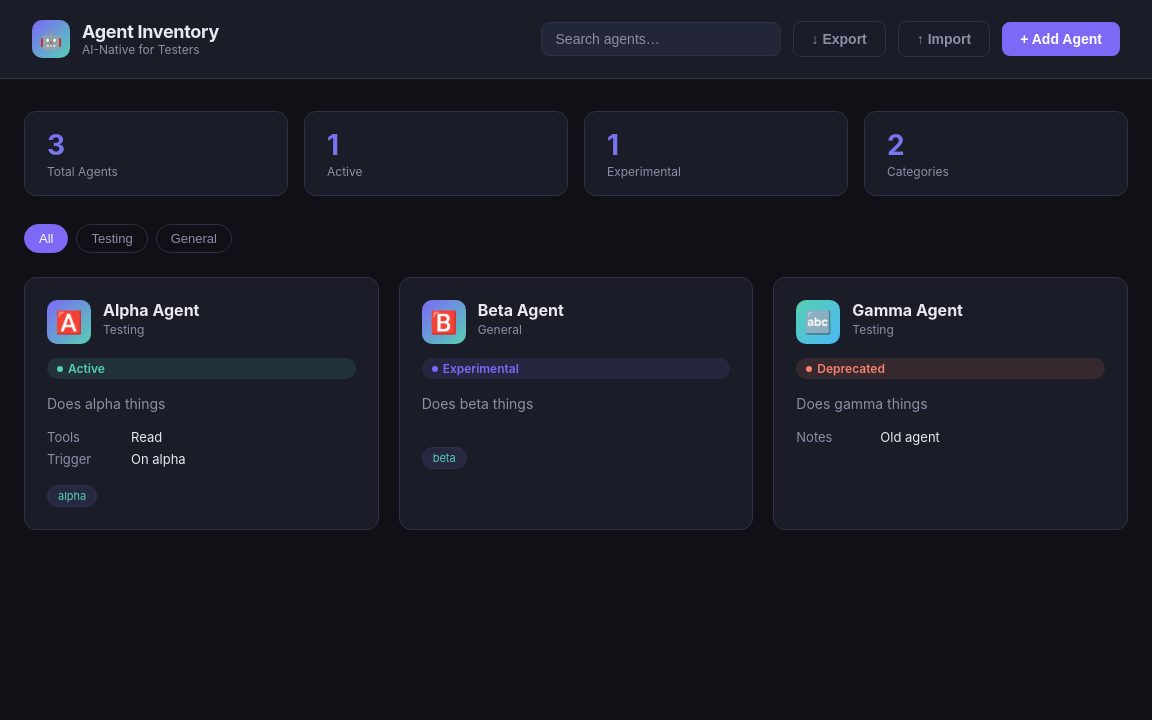
Stats bar › updates stats after adding an agent
Step 1. Click the button "+ Add Agent" → click(1061, 39), box [1002,22,1120,56]
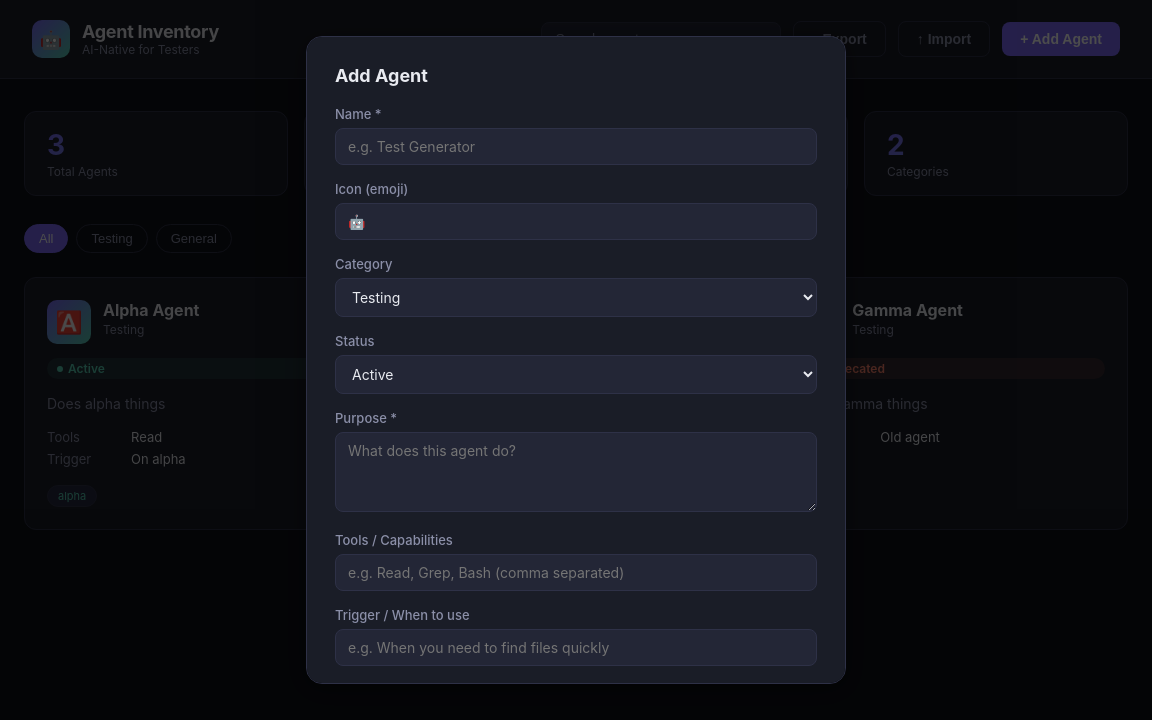
Step 2. Type "New One" into the field with placeholder "e.g. Test Generator" → (576, 146), box [335,128,817,165]
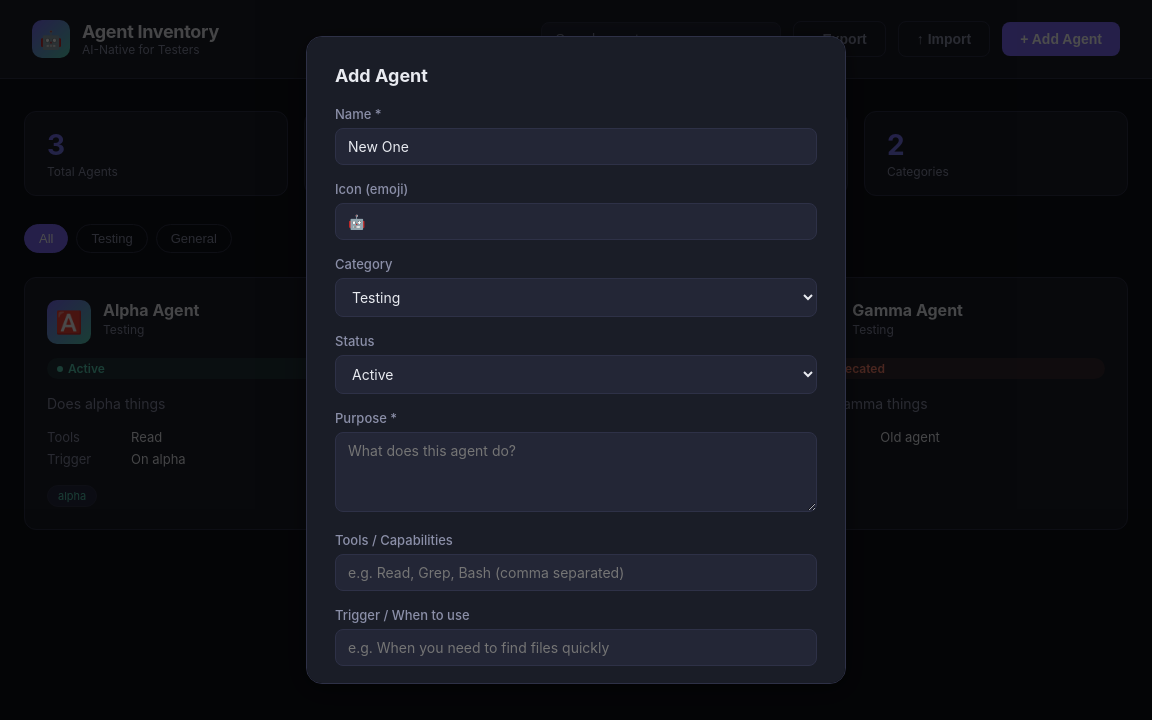
Step 3. Type "New purpose" into the text box with placeholder "What does this agent do?" → (576, 472), box [335,432,817,512]
(page scrolled)
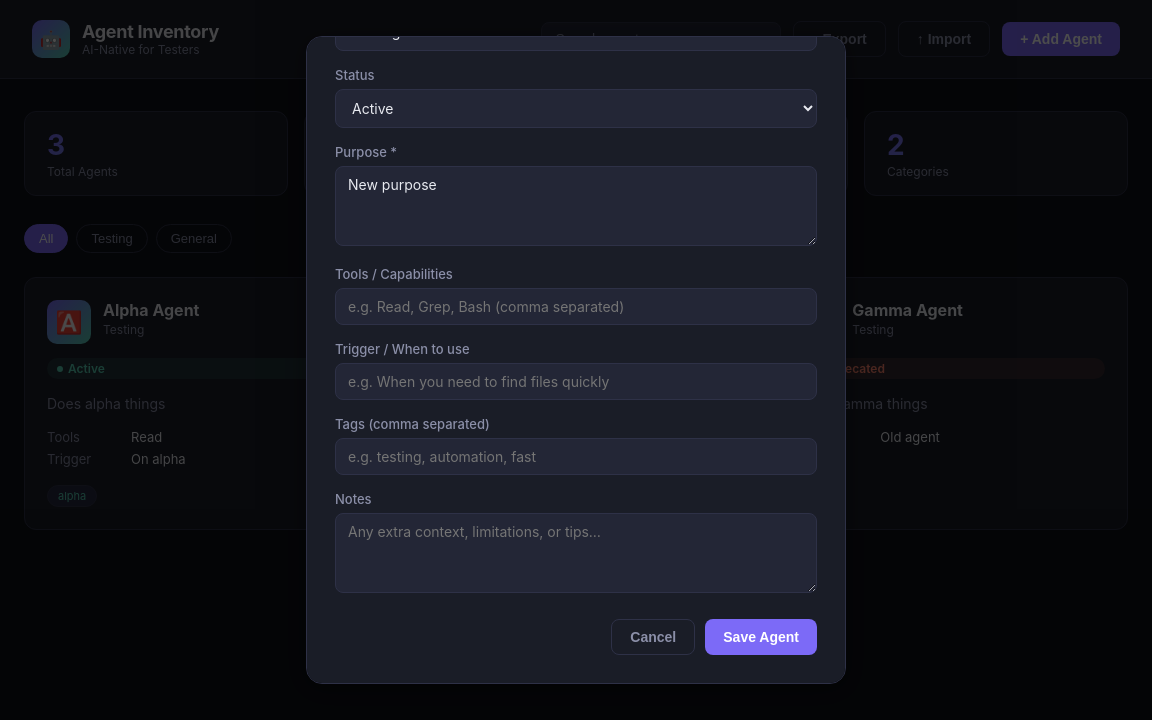
Step 4. Click the button "Save Agent" → click(761, 637), box [705,619,817,655]
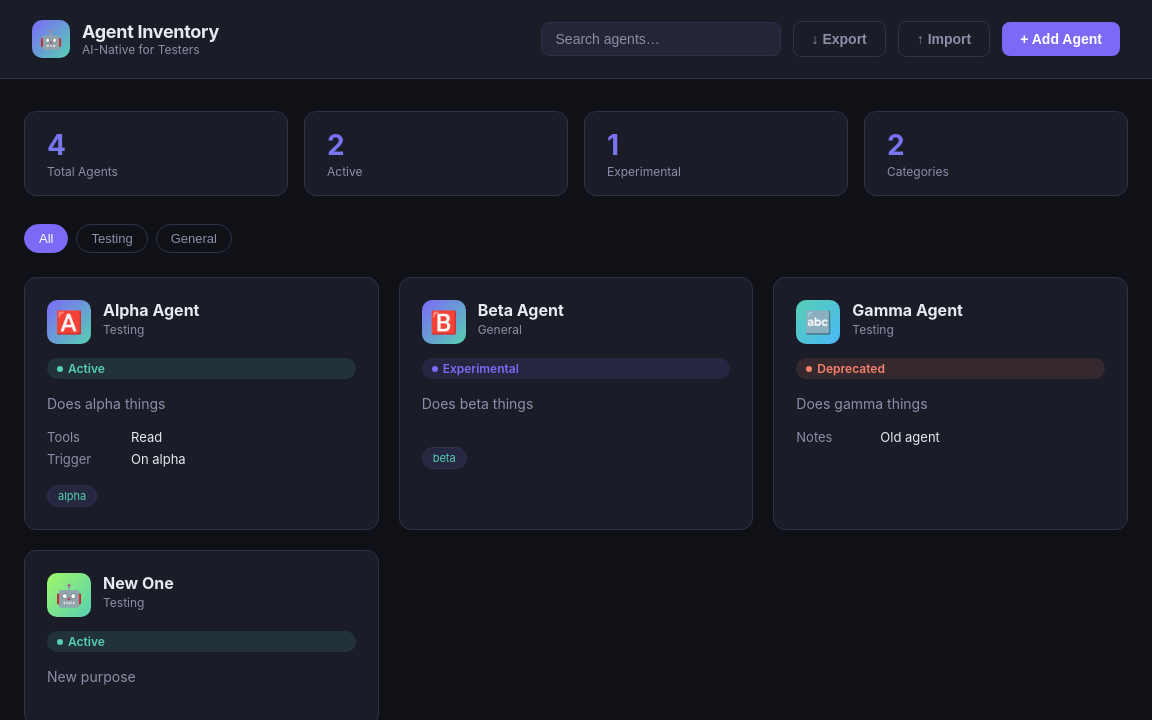
Expected: the text with class "stat-value" reads "4", [47,128,66,162]
